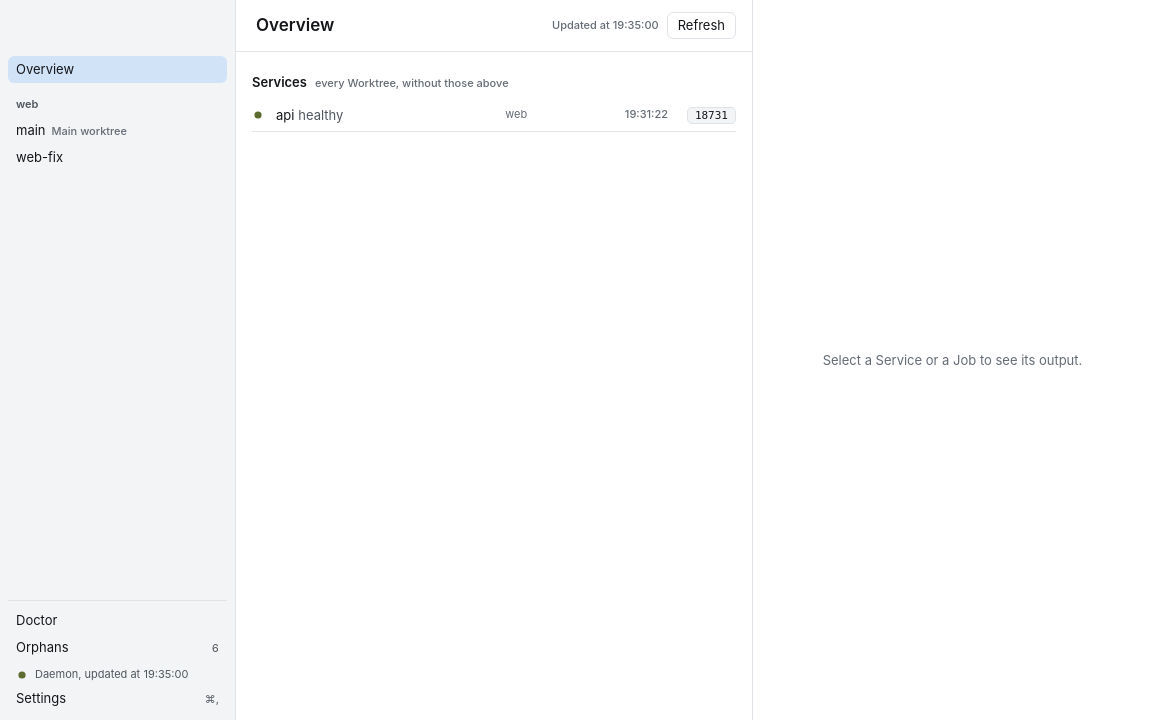
Test: the Orphans screen › shows in red, in the sheet, the lines of the Orphans that drop data and `This cannot be undone.`
Click the button "Orphans 6" at (118, 648), box [8,634,227,661]
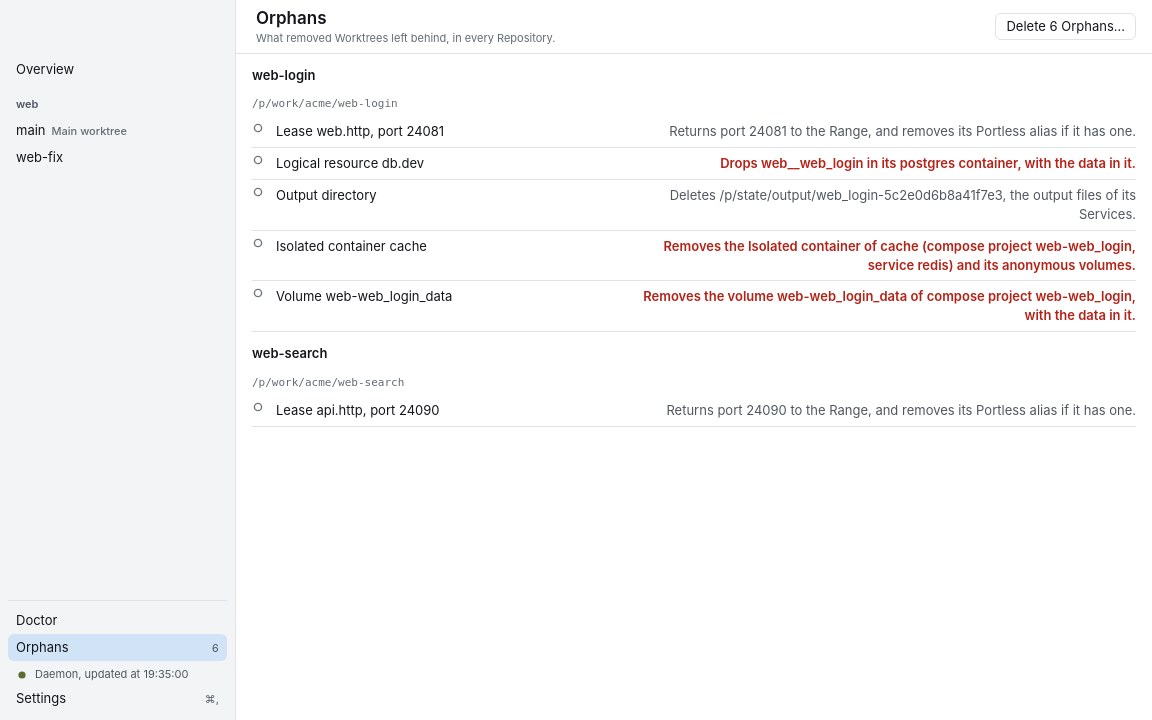
Expected: the heading "Orphans" is shown, [256,6,326,31]
Click the button "Delete 6 Orphans…" at (1066, 26), box [996,13,1136,40]
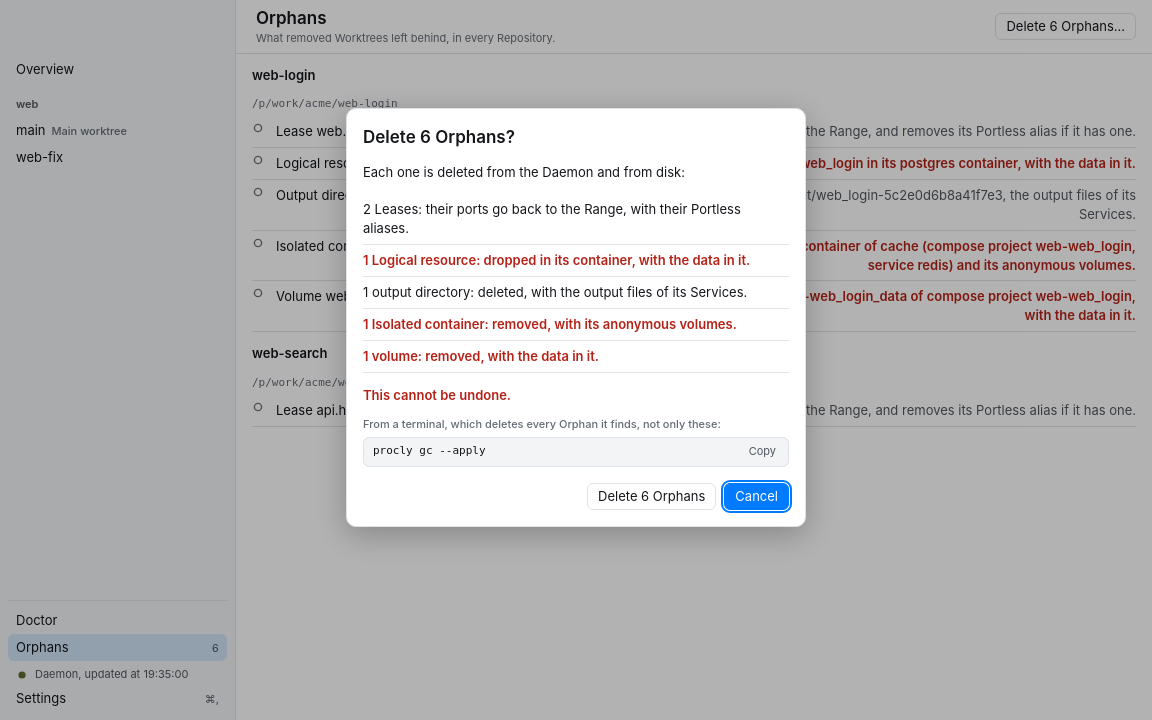
Expected: the text "procly gc --apply" is shown, [373,444,486,457]
